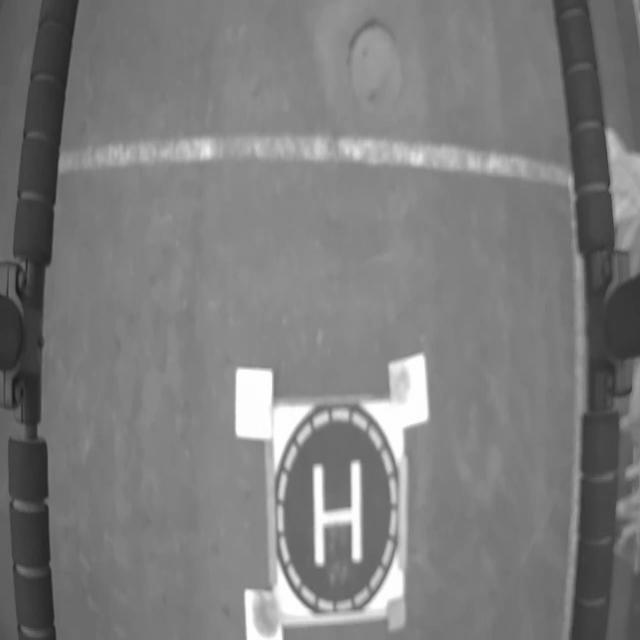Helipad: (312, 459, 362, 567)
